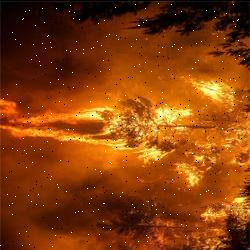fire: (2, 67, 250, 230)
